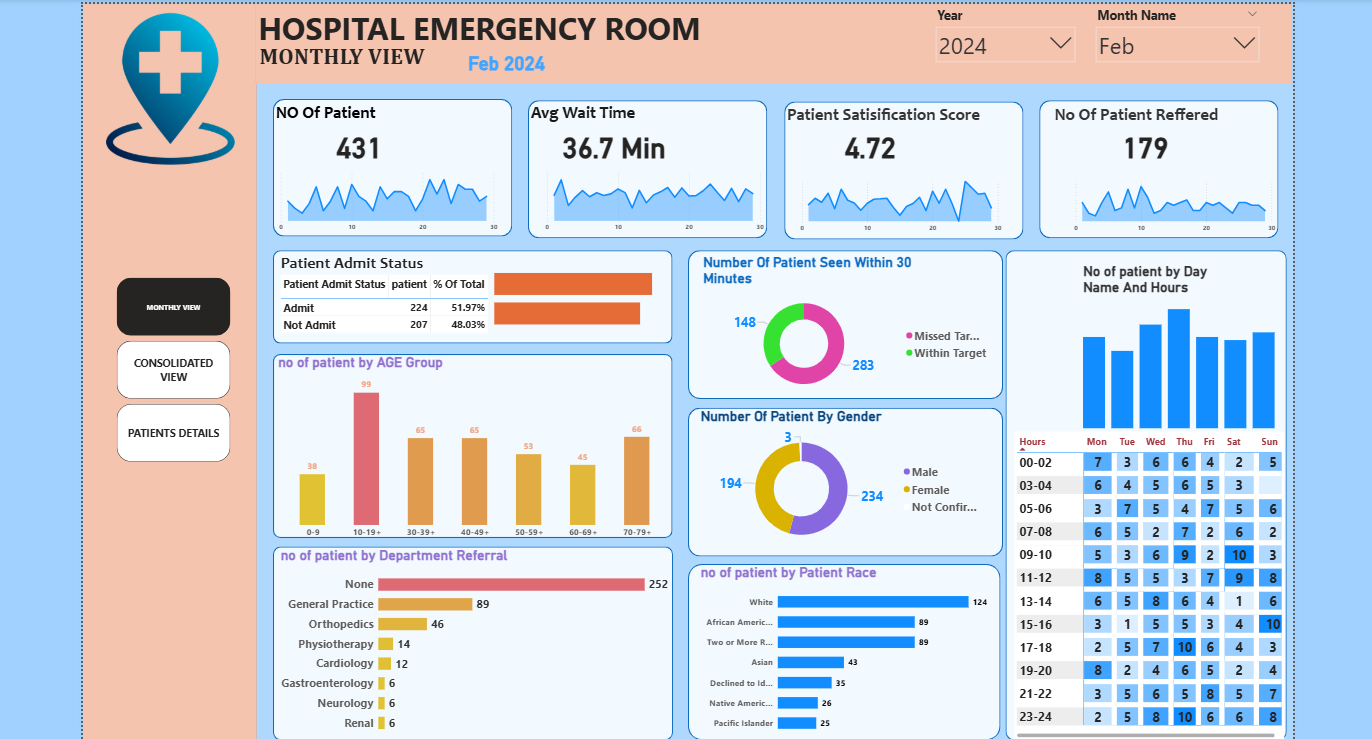

The page's visual inventory and layout, read from the dashboard file:
{"tool":"powerbi","page":{"name":"MONTHLY VIEW","canvas":[2300,1400],"ordinal":0},"visuals":[{"type":"shape","box":[847.6,182.5,455,262.5],"z":0},{"type":"shape","box":[361.4,180.7,455,261.6],"z":1000},{"type":"shape","box":[0,0,330.5,1400.5],"z":2000},{"type":"shape","box":[328.1,0,1971.1,152.2],"z":3000},{"type":"textbox","box":[328.1,0,863.1,88],"z":4000},{"type":"textbox","box":[330.5,69,354.3,83.2],"z":5000},{"type":"card","fields":{"Values":["Hospital ER_Data.no of patient"]},"box":[362.5,205,327.5,125],"z":6000},{"type":"textbox","box":[361.4,180.7,435.1,49.9],"z":7000},{"type":"slicer","fields":{"Values":["Date Table.Year"]},"box":[1612.1,0,285.3,116.5],"z":8000},{"type":"slicer","fields":{"Values":["Date Table.Month Name"]},"box":[1916.5,0,330.5,116.5],"z":9000},{"type":"areaChart","fields":{"Category":["Date Table.Date.Variation.Date Hierarchy.Day"],"Y":["Hospital ER_Data.no of patient"]},"box":[362.5,307.5,435,135],"z":10000},{"type":"shape","box":[1335,185,455,262.5],"z":11000},{"type":"shape","box":[1820,182.5,455,262.5],"z":12000},{"type":"card","fields":{"Values":["Hospital ER_Data.Avg Wait Time"]},"box":[847.5,205,327.5,125],"z":13000},{"type":"areaChart","fields":{"Category":["Date Table.Date.Variation.Date Hierarchy.Day"],"Y":["Avg(Hospital ER_Data.Patient Waittime)"]},"box":[867.5,307.5,435,135],"z":14000},{"type":"textbox","box":[847.5,180,370,50],"z":15000},{"type":"textbox","box":[1335,185,455,62.5],"z":16000},{"type":"textbox","box":[1842.5,185,432.5,62.5],"z":17000},{"type":"shape","box":[362.5,467.5,760,177.5],"z":18000},{"type":"card","fields":{"Values":["Hospital ER_Data.Patient Satisfication Score"]},"box":[1335,205,327.5,125],"z":19000},{"type":"card","fields":{"Values":["Hospital ER_Data.No Of Patient Reffered"]},"box":[1857.5,205,327.5,125],"z":20000},{"type":"areaChart","fields":{"Category":["Date Table.Date.Variation.Date Hierarchy.Day"],"Y":["Avg(Hospital ER_Data.Patient Satisfaction Score)"]},"box":[1352.5,322.5,402.5,120],"z":21000},{"type":"areaChart","fields":{"Category":["Date Table.Date.Variation.Date Hierarchy.Day"],"Y":["Hospital ER_Data.No Of Patient Reffered"]},"box":[1872.5,322.5,402.5,120],"z":22000},{"type":"pivotTable","title":"Patient Admit Status","fields":{"Rows":["Hospital ER_Data.Patient Admit Status"],"Values":["Hospital ER_Data.no of patient1","Hospital ER_Data.no of patient"]},"box":[370.9,473.2,420.9,173.6],"z":23000},{"type":"barChart","fields":{"Category":["Hospital ER_Data.Patient Admit Status"],"Y":["Hospital ER_Data.no of patient"]},"box":[777.5,470,345,175],"z":24000},{"type":"shape","box":[362.5,665,760,350],"z":25000},{"type":"clusteredColumnChart","fields":{"Category":["Hospital ER_Data.AGE Group"],"Y":["Hospital ER_Data.no of patient"]},"box":[366.2,665.8,760.9,361.4],"z":26000},{"type":"shape","box":[361.4,1031.9,760.9,368.5],"z":27000},{"type":"clusteredBarChart","fields":{"Category":["Hospital ER_Data.Department Referral"],"Y":["Hospital ER_Data.no of patient"]},"box":[370.9,1031.9,751.4,368.5],"z":28000},{"type":"shape","box":[1150.8,468.4,599.2,282.9],"z":29000},{"type":"donutChart","title":"Number Of Patient Seen Within 30 Minutes","fields":{"Category":["Hospital ER_Data.Waiting Time"],"Y":["Hospital ER_Data.no of patient"]},"box":[1174.6,475.5,558.8,275.8],"z":30000},{"type":"shape","box":[1150.8,768,599.2,282.9],"z":31000},{"type":"donutChart","title":"Number Of Patient By Gender","fields":{"Y":["Hospital ER_Data.no of patient"],"Category":["Hospital ER_Data.Patient Gender"]},"box":[1169.8,768,558.8,275.8],"z":32000},{"type":"shape","box":[1150.8,1065.2,594.4,335.3],"z":33000},{"type":"clusteredBarChart","fields":{"Y":["Hospital ER_Data.no of patient"],"Category":["Hospital ER_Data.Patient Race"]},"box":[1169.8,1065.2,556.4,335.3],"z":34000},{"type":"shape","box":[1754.8,468.4,535,932.1],"z":35000},{"type":"pivotTable","fields":{"Rows":["Hospital ER_Data.Waittime Interval"],"Columns":["Date Table.Day Name"],"Values":["Hospital ER_Data.no of patient"]},"box":[1771.4,813.2,513.6,587.3],"z":36000},{"type":"columnChart","title":"No of patient by Day Name And Hours","fields":{"Category":["Date Table.Day Name"],"Y":["Hospital ER_Data.no of patient"]},"box":[1897.4,492.2,375.7,321],"z":37000},{"type":"image","box":[16.6,11.9,299.6,299.6],"z":38000},{"type":"pageNavigator","box":[64.2,520.7,216.4,351.9],"z":39000},{"type":"card","fields":{"Values":["Min(Date Table.Month Year)"]},"box":[684.8,80.8,242.5,59.4],"z":40000}]}

Visuals, with their boxes on the page's 2300x1400 design canvas (x1, y1, x2, y2). These are canvas units, not pixel positions in the 1372x739 screenshot, which may show the page scaled, cropped or inside an application window:
shape: bbox=[848, 182, 1303, 445]
shape: bbox=[361, 181, 816, 442]
shape: bbox=[0, 0, 330, 1400]
shape: bbox=[328, 0, 2299, 152]
textbox: bbox=[328, 0, 1191, 88]
textbox: bbox=[330, 69, 685, 152]
card - Hospital ER_Data.no of patient: bbox=[362, 205, 690, 330]
textbox: bbox=[361, 181, 796, 231]
slicer - Date Table.Year: bbox=[1612, 0, 1897, 116]
slicer - Date Table.Month Name: bbox=[1916, 0, 2247, 116]
areaChart - Date Table.Date.Variation.Date Hierarchy.Day x Hospital ER_Data.no of patient: bbox=[362, 308, 798, 442]
shape: bbox=[1335, 185, 1790, 448]
shape: bbox=[1820, 182, 2275, 445]
card - Hospital ER_Data.Avg Wait Time: bbox=[848, 205, 1175, 330]
areaChart - Date Table.Date.Variation.Date Hierarchy.Day x Avg(Hospital ER_Data.Patient Waittime): bbox=[868, 308, 1302, 442]
textbox: bbox=[848, 180, 1218, 230]
textbox: bbox=[1335, 185, 1790, 248]
textbox: bbox=[1842, 185, 2275, 248]
shape: bbox=[362, 468, 1122, 645]
card - Hospital ER_Data.Patient Satisfication Score: bbox=[1335, 205, 1662, 330]
card - Hospital ER_Data.No Of Patient Reffered: bbox=[1858, 205, 2185, 330]
areaChart - Date Table.Date.Variation.Date Hierarchy.Day x Avg(Hospital ER_Data.Patient Satisfaction Score): bbox=[1352, 322, 1755, 442]
areaChart - Date Table.Date.Variation.Date Hierarchy.Day x Hospital ER_Data.No Of Patient Reffered: bbox=[1872, 322, 2275, 442]
"Patient Admit Status" pivotTable: bbox=[371, 473, 792, 647]
barChart - Hospital ER_Data.Patient Admit Status x Hospital ER_Data.no of patient: bbox=[778, 470, 1122, 645]
shape: bbox=[362, 665, 1122, 1015]
clusteredColumnChart - Hospital ER_Data.AGE Group x Hospital ER_Data.no of patient: bbox=[366, 666, 1127, 1027]
shape: bbox=[361, 1032, 1122, 1400]
clusteredBarChart - Hospital ER_Data.Department Referral x Hospital ER_Data.no of patient: bbox=[371, 1032, 1122, 1400]
shape: bbox=[1151, 468, 1750, 751]
"Number Of Patient Seen Within 30 Minutes" donutChart: bbox=[1175, 476, 1733, 751]
shape: bbox=[1151, 768, 1750, 1051]
"Number Of Patient By Gender" donutChart: bbox=[1170, 768, 1729, 1044]
shape: bbox=[1151, 1065, 1745, 1400]
clusteredBarChart - Hospital ER_Data.no of patient x Hospital ER_Data.Patient Race: bbox=[1170, 1065, 1726, 1400]
shape: bbox=[1755, 468, 2290, 1400]
pivotTable - Hospital ER_Data.Waittime Interval x Date Table.Day Name: bbox=[1771, 813, 2285, 1400]
"No of patient by Day Name And Hours" columnChart: bbox=[1897, 492, 2273, 813]
image: bbox=[17, 12, 316, 312]
pageNavigator: bbox=[64, 521, 281, 873]
card - Min(Date Table.Month Year): bbox=[685, 81, 927, 140]
